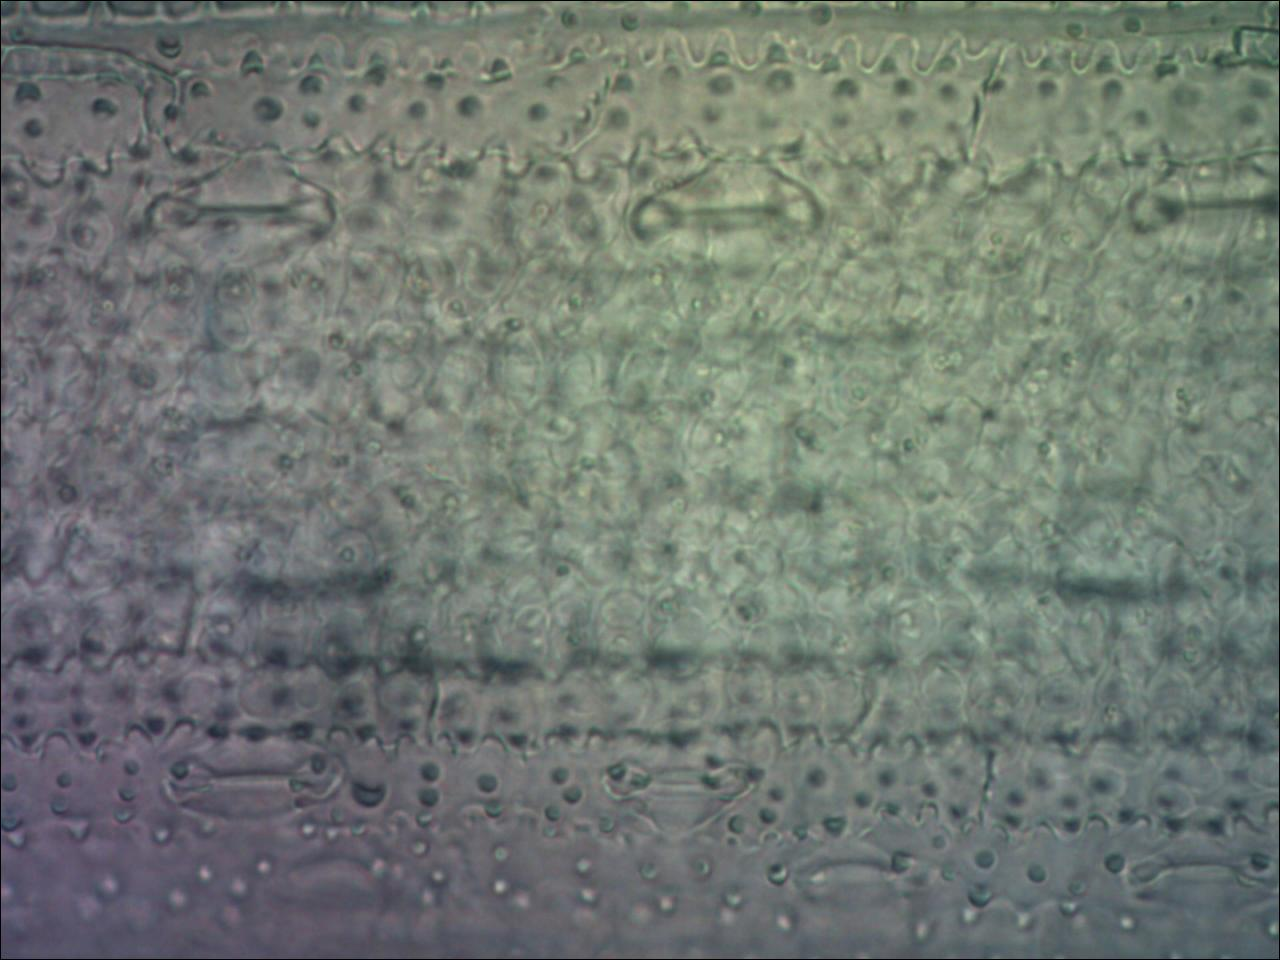stoma: (148, 143, 338, 271), (623, 153, 825, 267), (166, 723, 342, 822), (1124, 152, 1280, 263), (600, 739, 765, 833), (769, 833, 936, 919), (1125, 829, 1280, 915), (258, 828, 400, 914)
